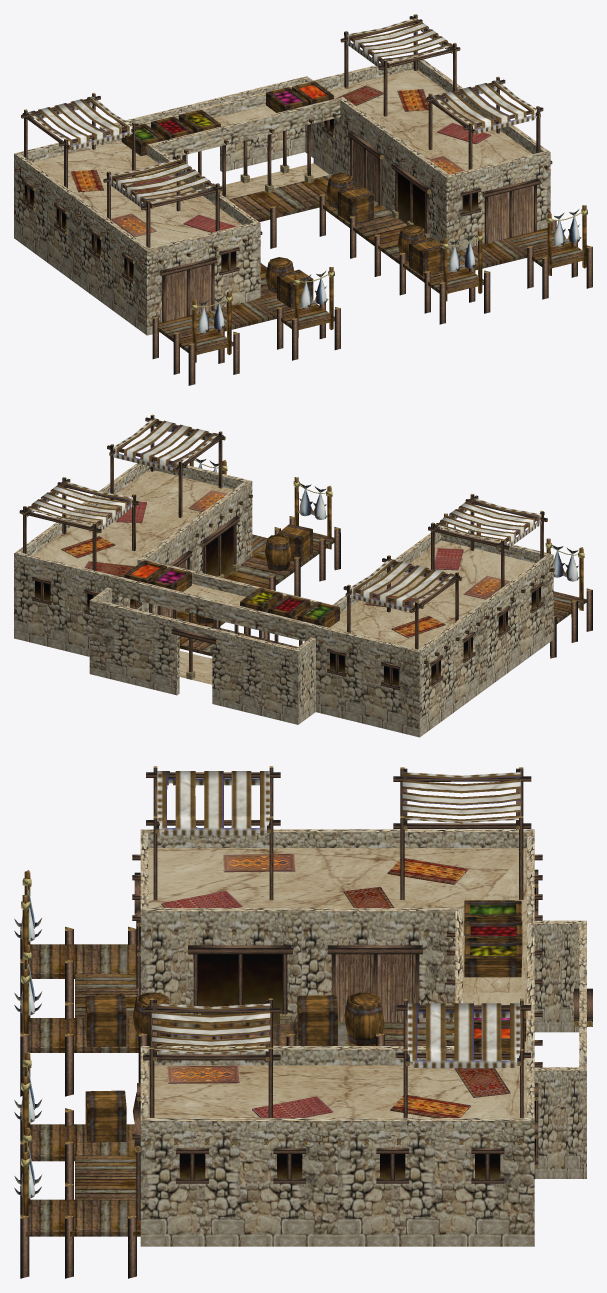
Rendered from dock.dae.
3 views of the same model, one above another, from view 1: azimuth 30°, elevation 25°; view 2: azimuth 150°, elevation 25°; view 3: azimuth 270°, elevation 25° (orthographic). The views are drawn at different scales.
Parts seen in each view (by area): view 1: dock; view 2: dock; view 3: dock.
Boxes of the visible parts, box(x1,y1,x2,y2) form: dock: box(14, 14, 592, 385); dock: box(14, 414, 592, 737); dock: box(14, 766, 592, 1278).
Bounding box in the file's own units: 9.99 × 8.22 × 3.49.
